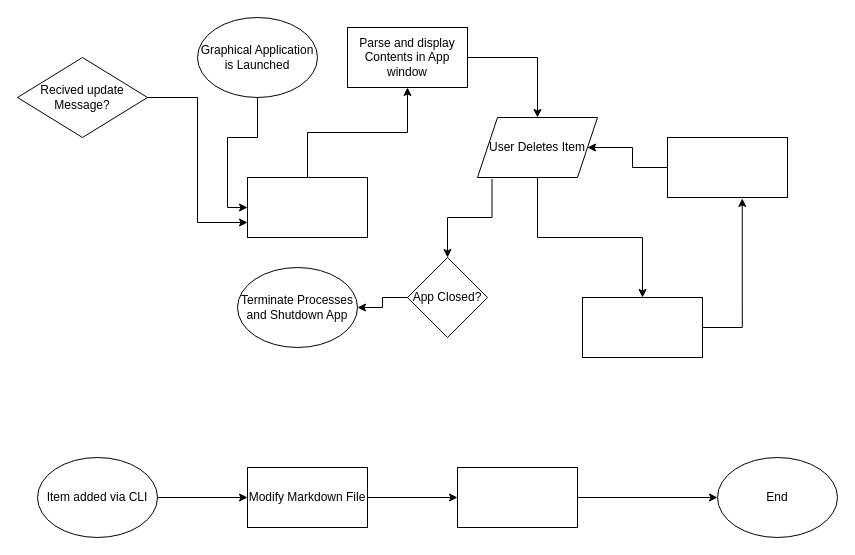
Some shapes in this 855 by 555 pixel diagram are drawn without their labels. The centre of each missing label's shape, as x and y in pixels:
"GUI updates" belongs at [727,167].
"Modify the markdown file to remove Item" belongs at [642,327].
"Read Markdown File" belongs at [307,207].
"Send message to Graphical App to update" belongs at [517,497].
